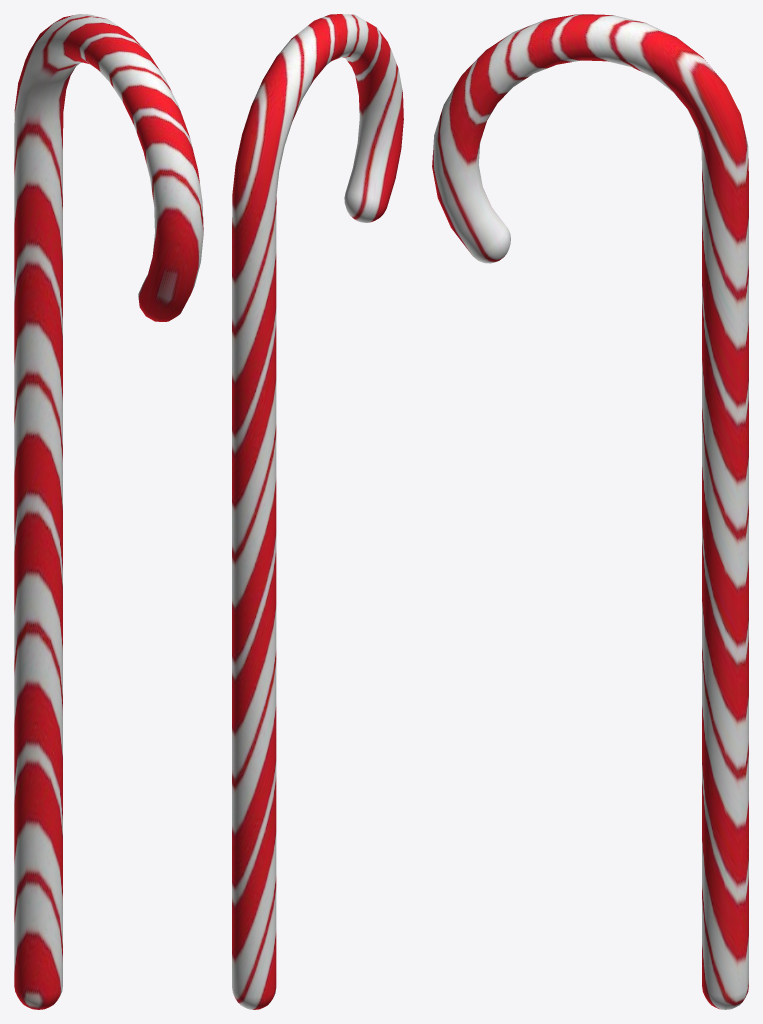
Rendered from Baston2.obj.
The picture shows the model from 3 angles, left to right: view 1: azimuth 30°, elevation 25°; view 2: azimuth 150°, elevation 25°; view 3: azimuth 270°, elevation 25°; orthographic projection. The views are drawn at different scales.
Parts seen in each view (by area): view 1: CandyCane; view 2: CandyCane; view 3: CandyCane.
Part boxes in pixels (bbox=[...]): CandyCane: bbox=[14, 14, 203, 1009]; CandyCane: bbox=[232, 14, 403, 1009]; CandyCane: bbox=[432, 14, 748, 1009].
Size of the model in its own units: 0.2063 by 4.82 by 1.4.
1 material, 1 textured.
